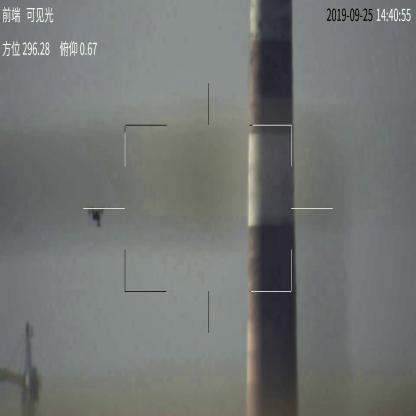uav: (88, 205, 110, 227)
